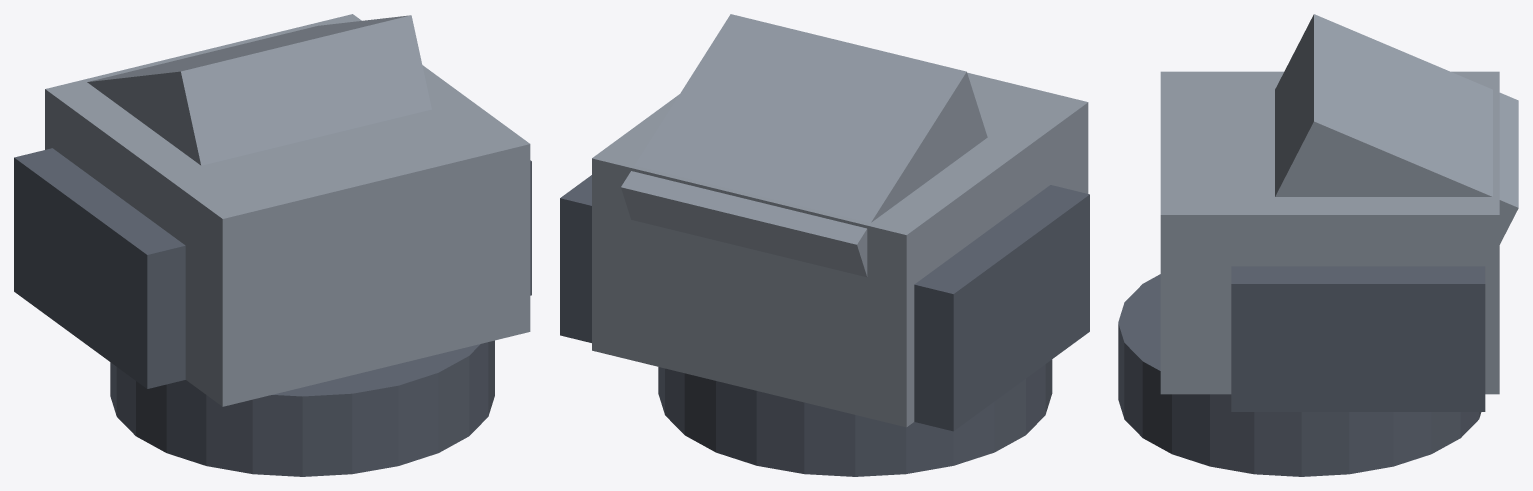
Rendered from procedural_head_upper.glb.
3 views of the same model, side by side, from view 1: azimuth 30°, elevation 25°; view 2: azimuth 150°, elevation 25°; view 3: azimuth 270°, elevation 25° (orthographic). The views are drawn at different scales.
Visible parts, largest first — view 1: Helmet, Collar, Brow, Cheek_L; view 2: Helmet, Brow, Cheek_L, Collar, Cheek_R; view 3: Helmet, Cheek_R, Brow, Collar.
Part boxes in pixels (left/top/right/bottom): Helmet: left=45, top=14, right=530, bottom=406; Collar: left=110, top=340, right=494, bottom=476; Brow: left=87, top=15, right=431, bottom=165; Cheek_L: left=14, top=148, right=185, bottom=388; Helmet: left=592, top=72, right=1088, bottom=427; Brow: left=621, top=14, right=987, bottom=277; Cheek_L: left=914, top=185, right=1089, bottom=431; Collar: left=658, top=359, right=1052, bottom=476; Cheek_R: left=560, top=175, right=591, bottom=342; Helmet: left=1160, top=71, right=1499, bottom=394; Cheek_R: left=1231, top=266, right=1485, bottom=411; Brow: left=1275, top=14, right=1518, bottom=244; Collar: left=1118, top=274, right=1481, bottom=476.
Bounding box in the file's own units: 0.3 × 0.2591 × 0.2836.
